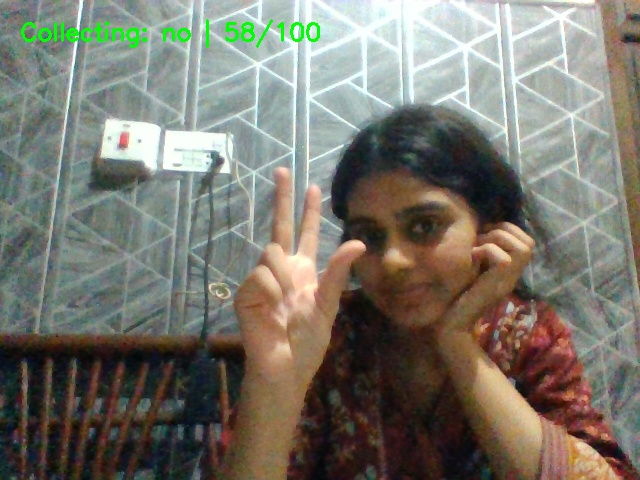no: (229, 156, 375, 390)
